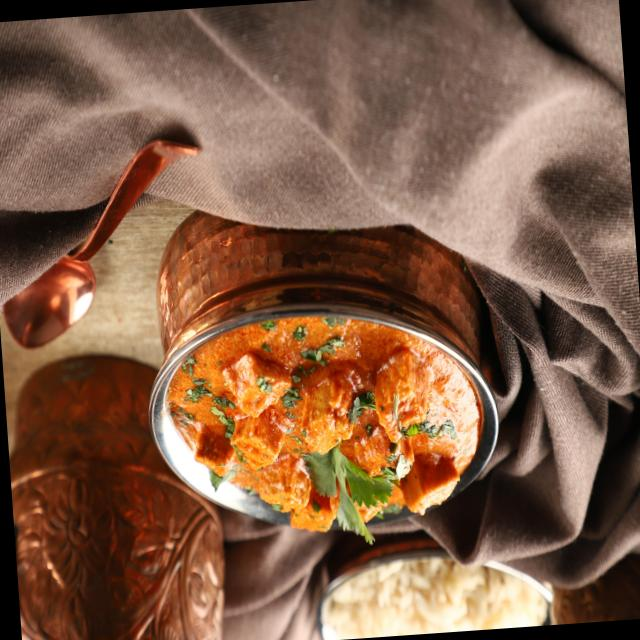ShahiPaneer: (158, 314, 489, 563)
